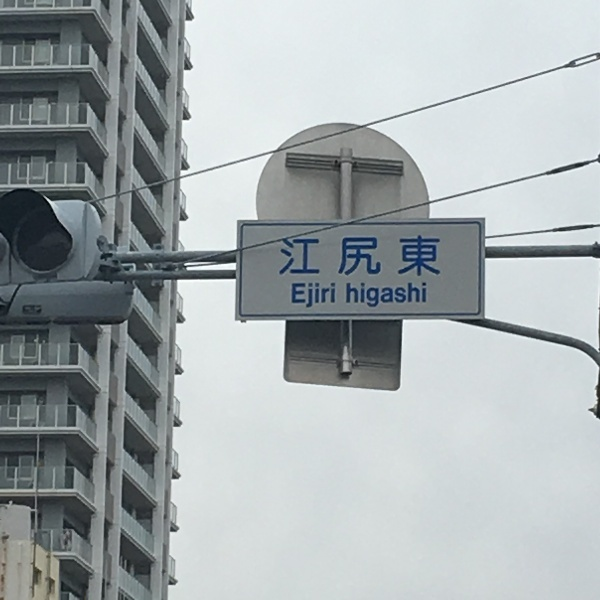text: (289, 234, 304, 276), (305, 234, 320, 276), (321, 234, 336, 276), (337, 234, 352, 276), (353, 234, 368, 276), (369, 234, 384, 276), (385, 234, 400, 276), (401, 234, 416, 276), (417, 234, 432, 276), (305, 283, 320, 308), (353, 283, 368, 308), (369, 283, 384, 308), (385, 283, 400, 308), (401, 283, 416, 308), (321, 283, 335, 308), (433, 234, 441, 276), (292, 283, 304, 308), (282, 234, 288, 276), (417, 283, 426, 308), (347, 283, 352, 308)
